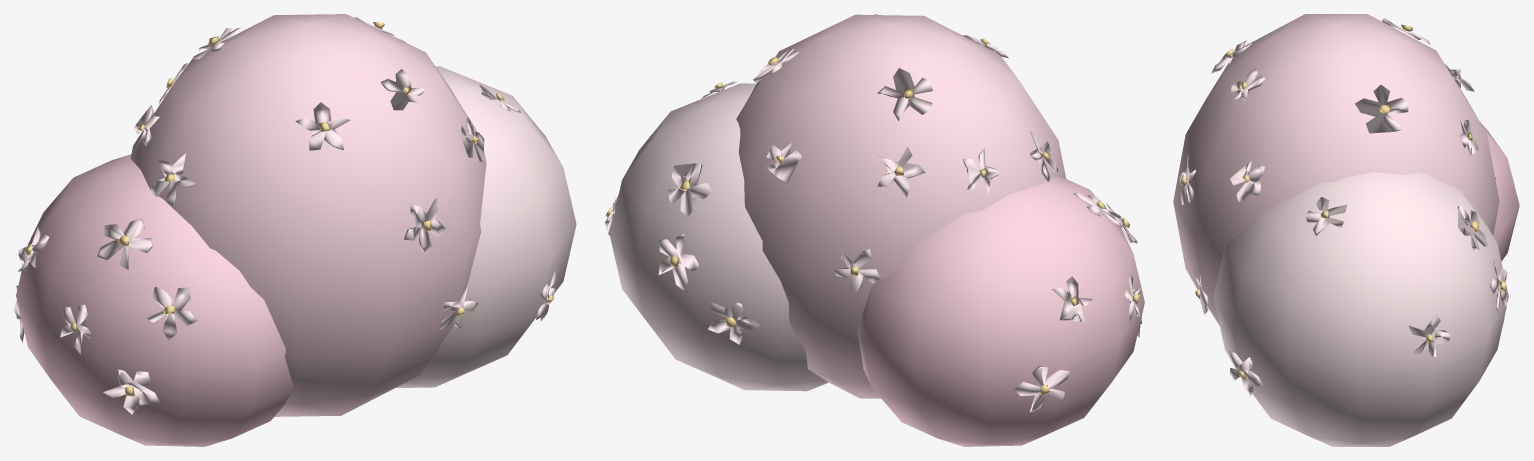
Rendered from shrub_spring_low.glb.
3 renders of one model, left to right at view 1: azimuth 30°, elevation 25°; view 2: azimuth 150°, elevation 25°; view 3: azimuth 270°, elevation 25°, orthographic. The views are drawn at different scales.
Bounding box in the file's own units: 1.77 × 1.27 × 1.11.
